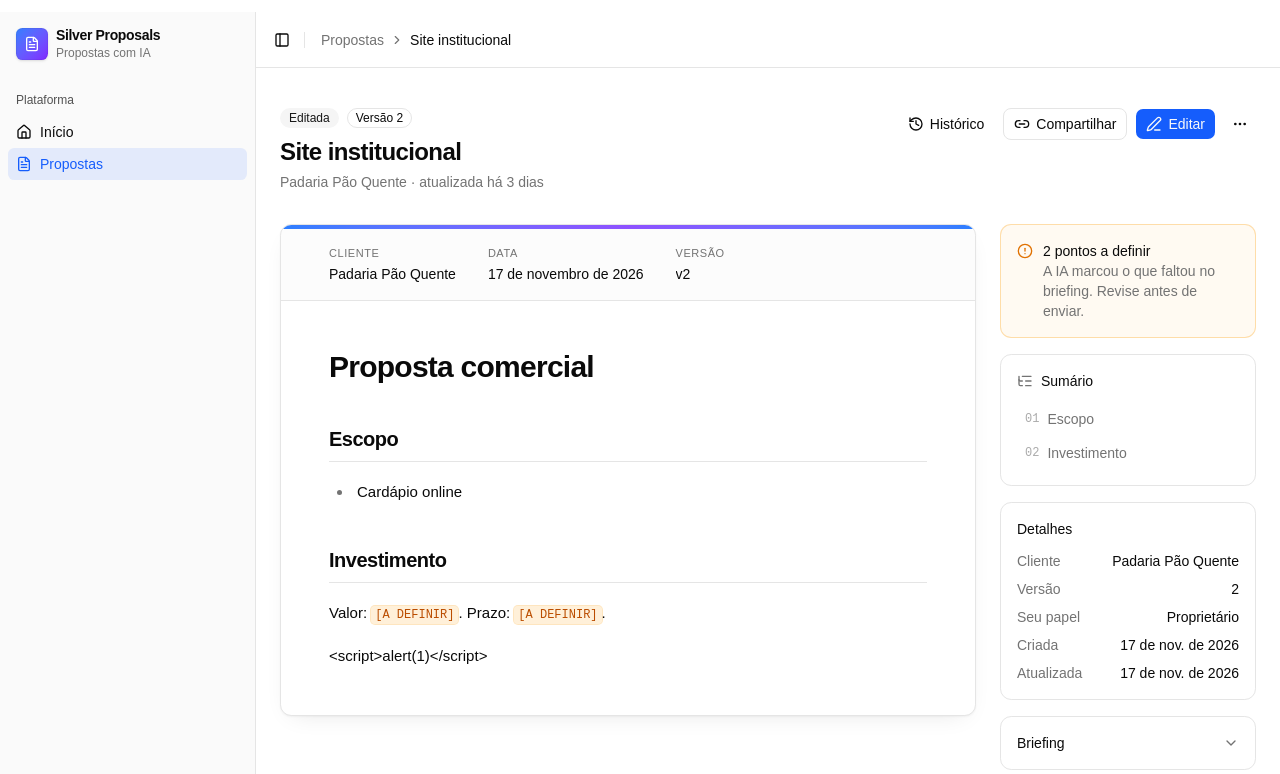
Scenario: ProposalPage › shows the generation error and keeps the saved content
Click the button named "Mais ações".
click(1240, 124)  # box [1224,108,1256,140]
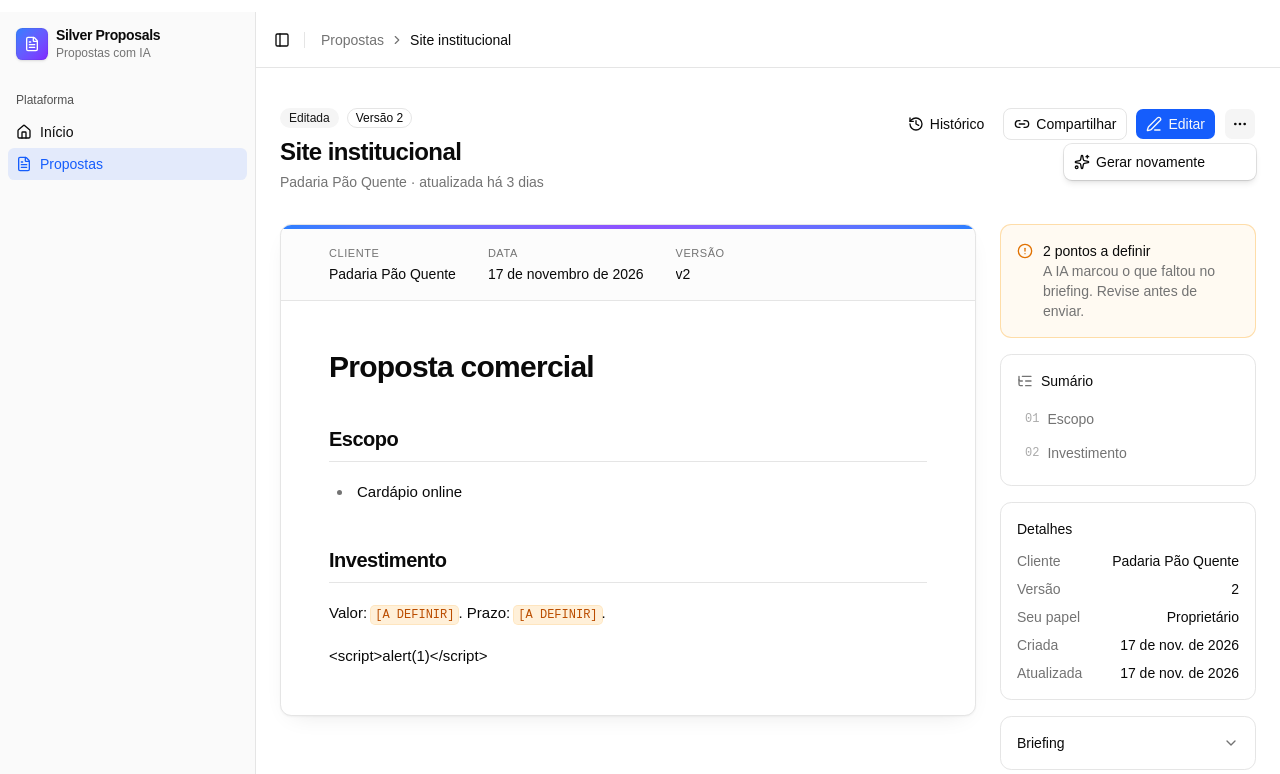
Click the menu item "Gerar novamente".
click(1140, 162)  # box [1074,154,1205,170]
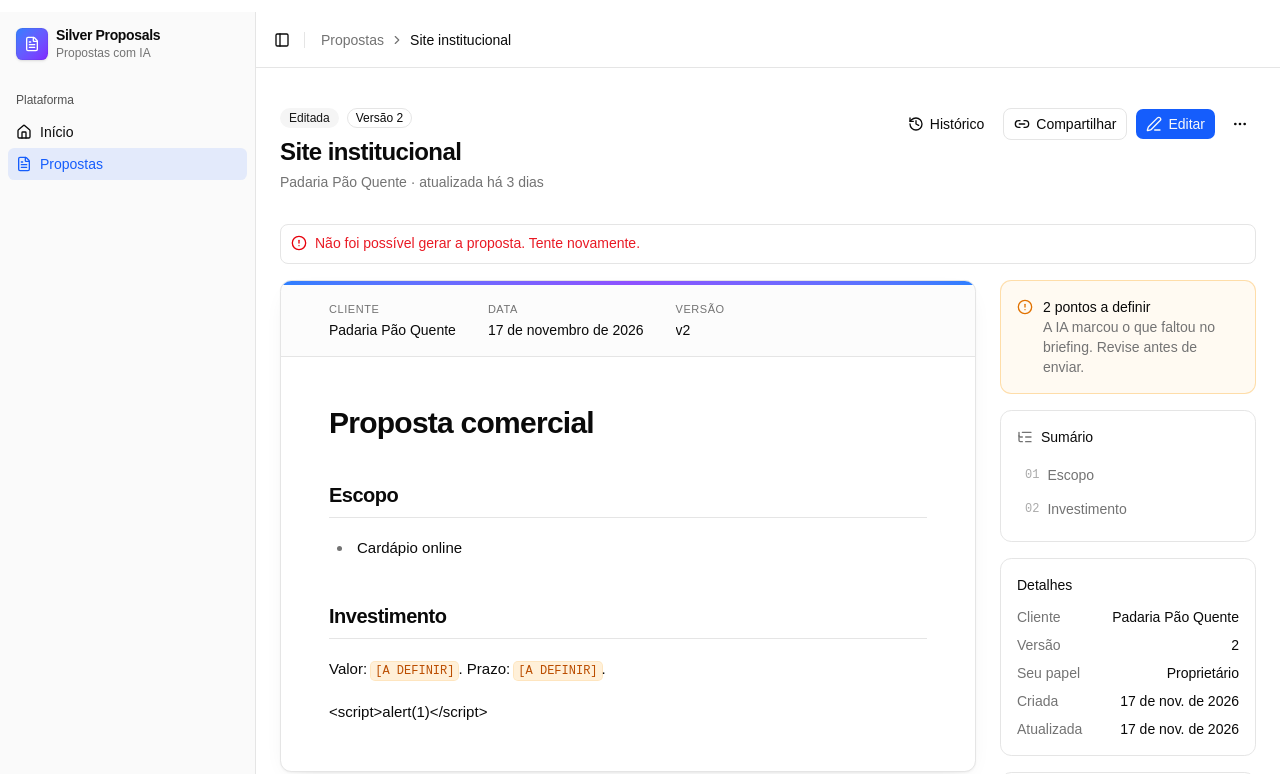
Expected: the heading "Escopo" is shown, [329,480,927,518]
Expected: the text "Não foi possível gerar a proposta. Tente novamente." is shown, [315,235,640,251]
